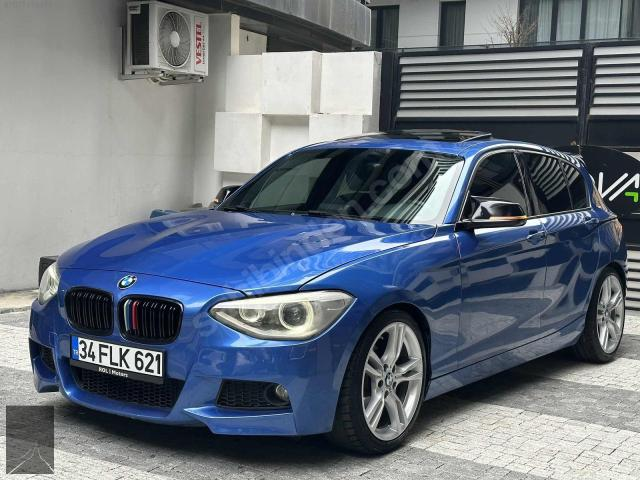plaka: (71, 338, 164, 378)
